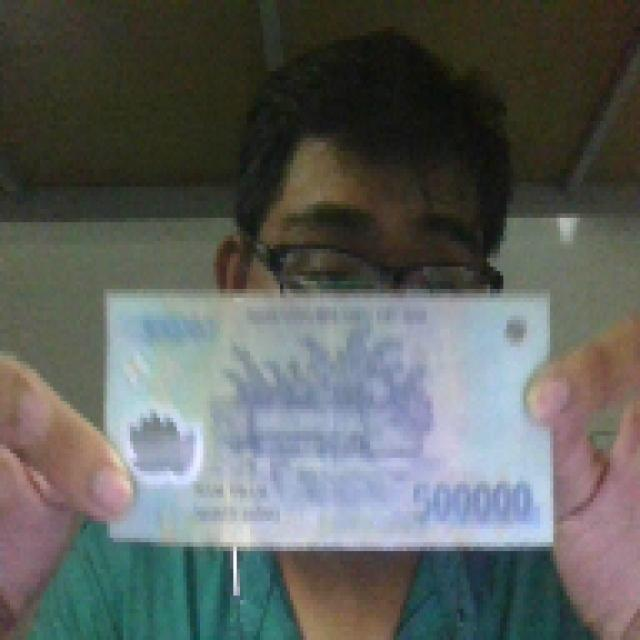500 000 VND: (97, 280, 561, 556)
